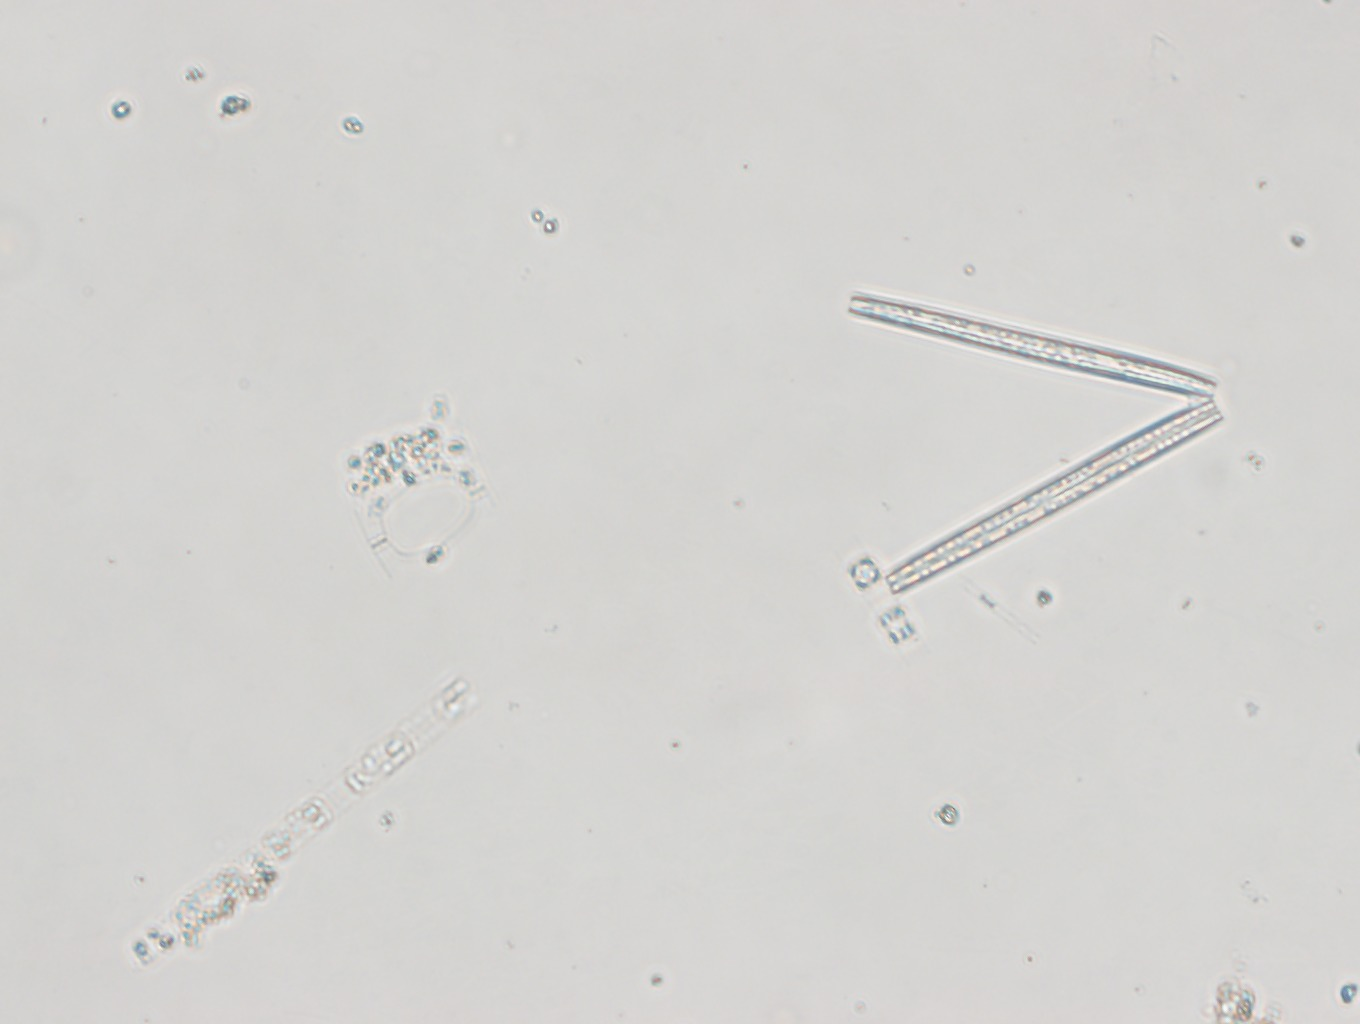eucampia: (318, 395, 509, 588)
skeletonema: (128, 668, 485, 966)
thalassionema frauenfeldii: (847, 288, 1223, 592)
